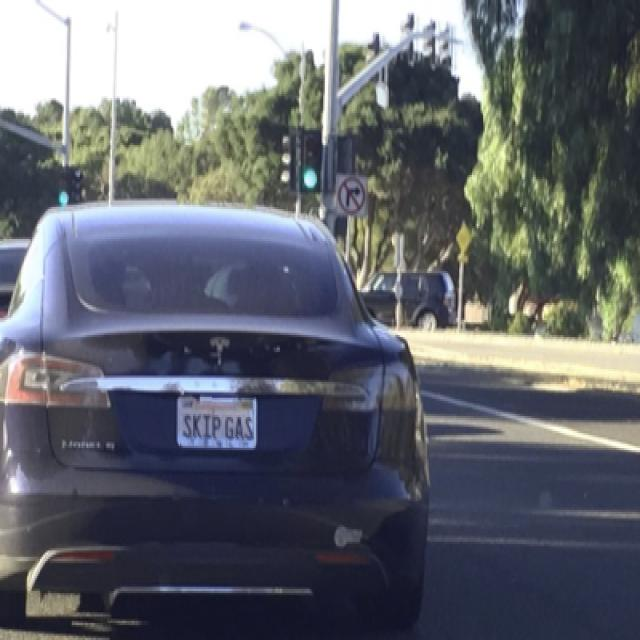licence: (178, 395, 254, 448)
